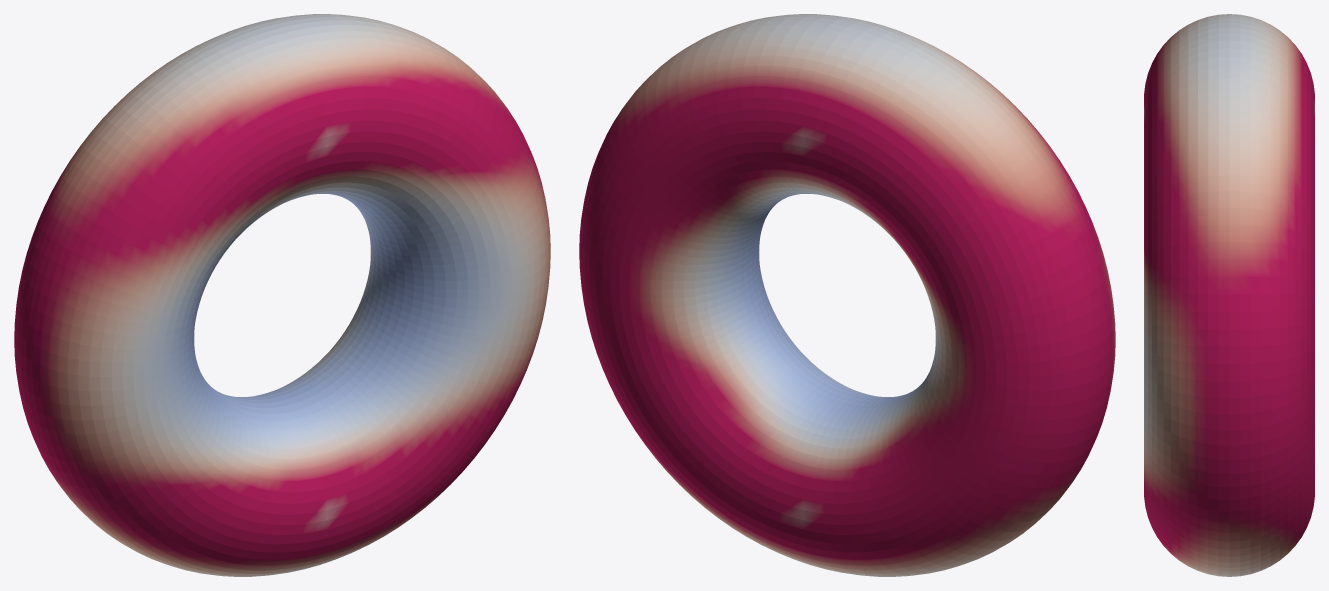
3 renders of one model, left to right at view 1: azimuth 30°, elevation 25°; view 2: azimuth 150°, elevation 25°; view 3: azimuth 270°, elevation 25°, orthographic. The views are drawn at different scales.
Visible parts, largest first — view 1: world; view 2: world; view 3: world.
Part boxes in pixels (x1,y1,x2,y2): world: (14, 14, 550, 576); world: (579, 14, 1115, 576); world: (1144, 14, 1314, 576).
Bounding box in the file's own units: 25.87 × 25.87 × 7.85.
